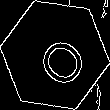O_NW: (23, 22, 87, 88)
